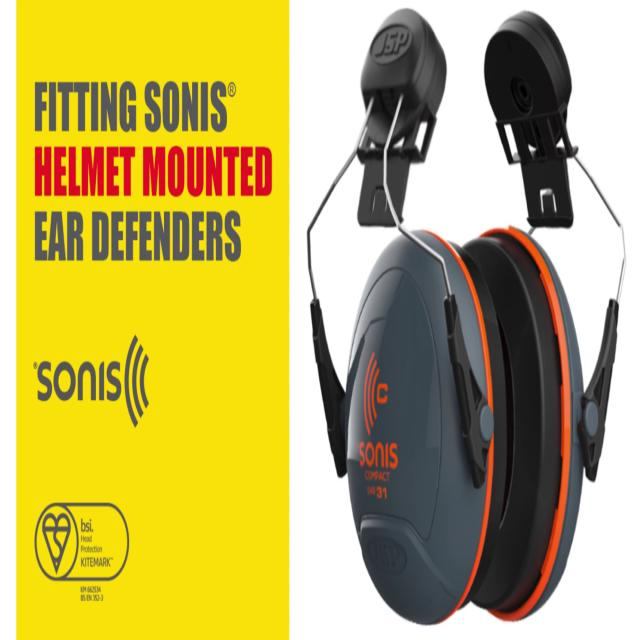earmuff: (344, 200, 510, 634), (452, 180, 588, 640)
